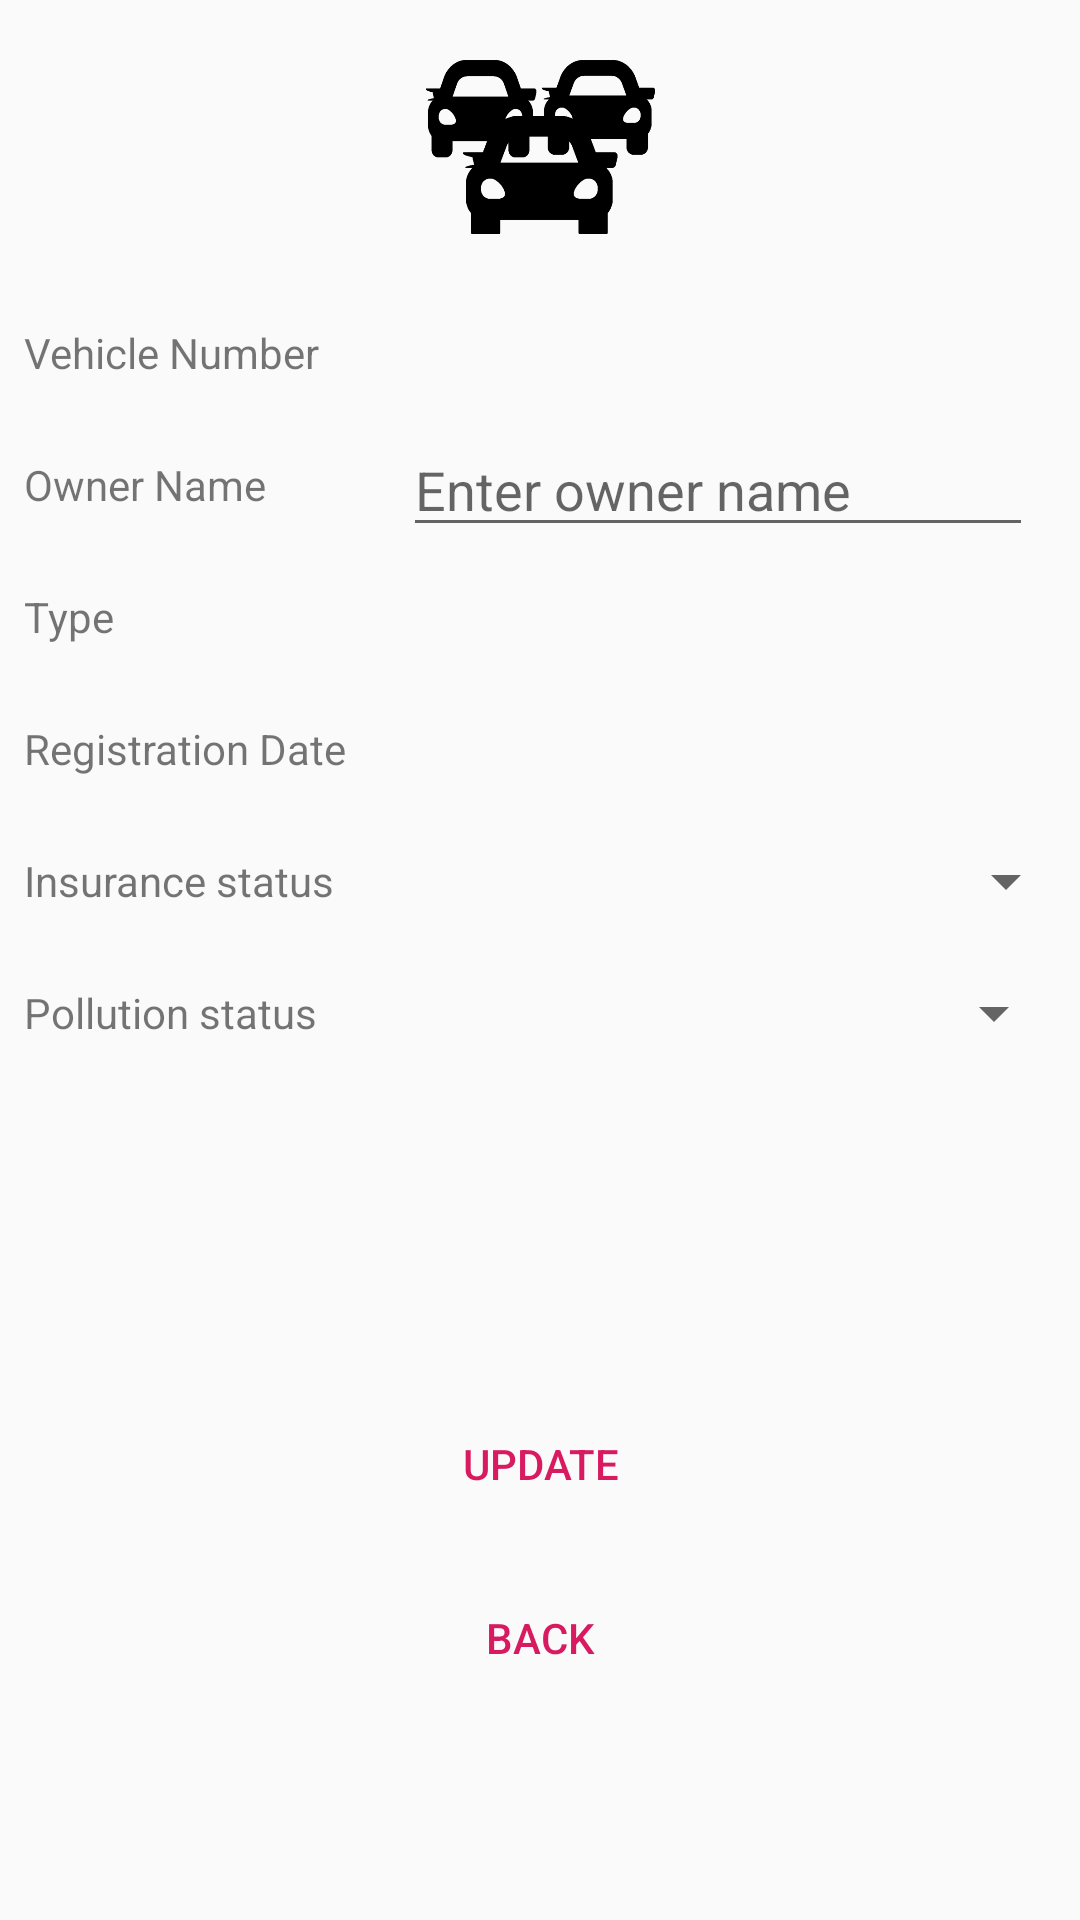

Screen size 1080*1920. Icon name, then its center in pixels as [x,y]:
group of cars: [540,147]
